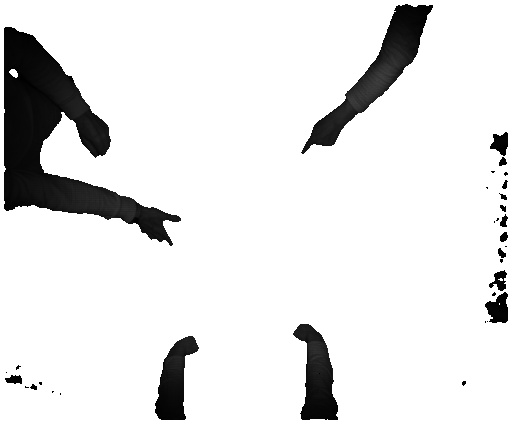fist: (78, 114, 111, 159), (288, 320, 317, 343), (179, 336, 199, 359)
hand: (296, 113, 345, 159), (140, 206, 183, 247)
